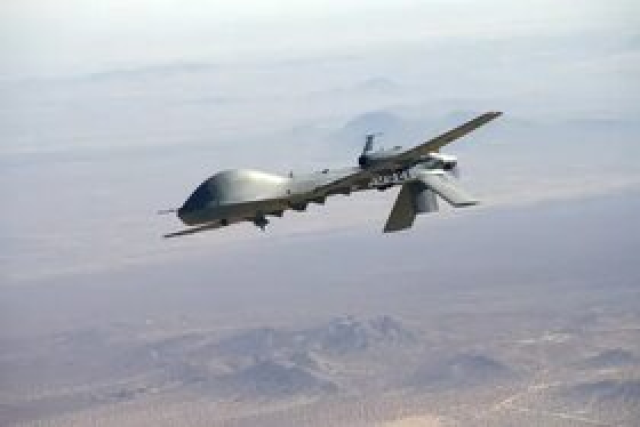military drone: (158, 111, 503, 238)
